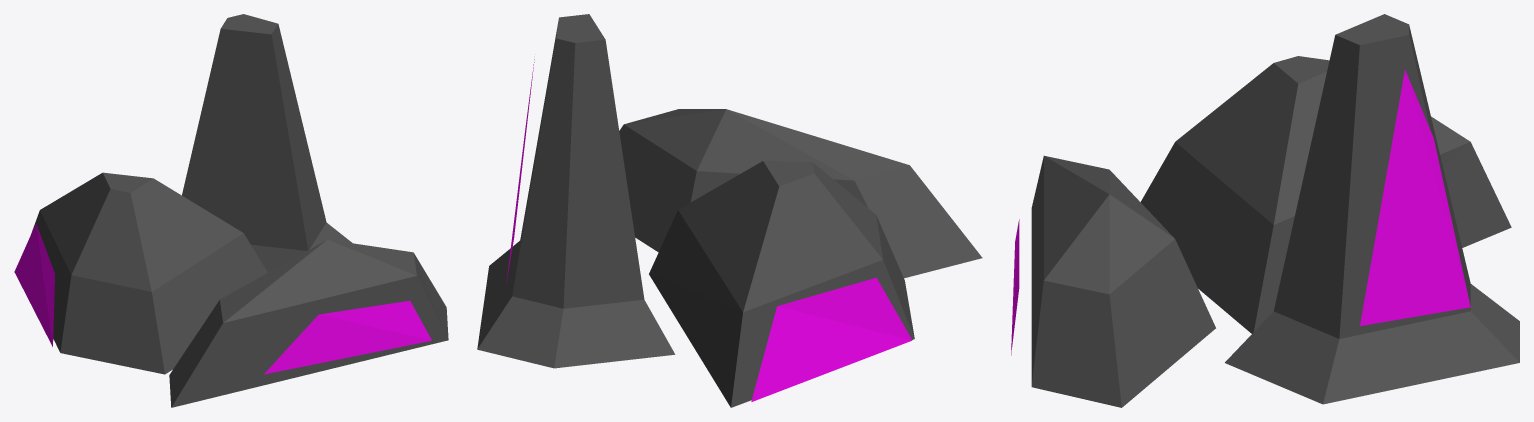
Rendered from mossyrock.obj.
3 views of the same model, side by side, from view 1: azimuth 30°, elevation 25°; view 2: azimuth 150°, elevation 25°; view 3: azimuth 270°, elevation 25° (orthographic). The views are drawn at different scales.
Parts seen in each view (by area): view 1: mossyrock_back; view 2: mossyrock_back; view 3: mossyrock_back.
Part boxes in pixels (<box>): mossyrock_back: <box>14,14,448,407</box>; mossyrock_back: <box>477,14,982,407</box>; mossyrock_back: <box>1011,14,1519,407</box>.
Bounding box in the file's own units: 1.26 × 0.84 × 1.24.
